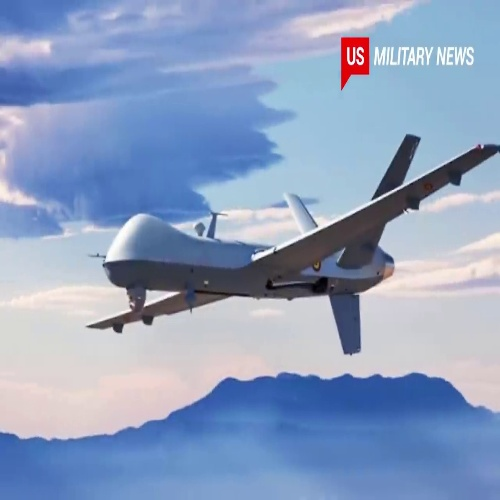uav: (83, 132, 497, 357)
